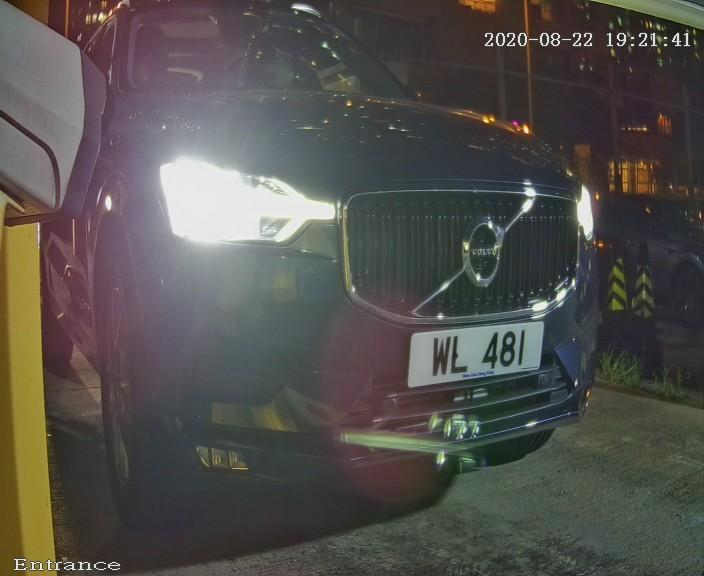Car: (19, 3, 654, 535)
License Plate: (397, 309, 551, 399)
